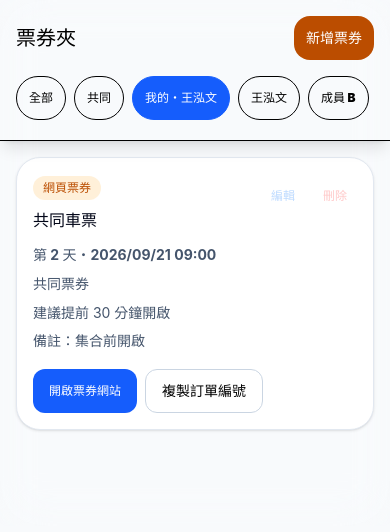
Test: TicketWalletSection › blocks duplicate copies while pending and offers selectable text on failure
Click the button "複製訂單編號" at (204, 391), box left=145, top=369, right=263, bottom=413
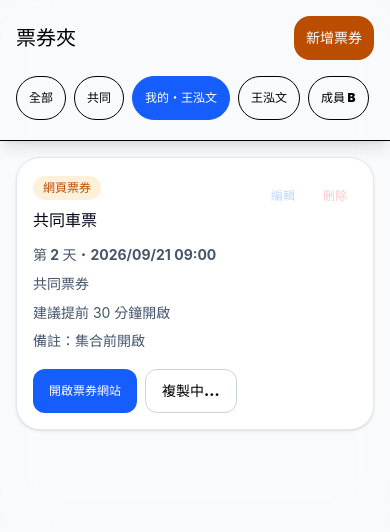
Result: the button "複製中…" is disabled
Click the button "複製中…" at (191, 391), box left=145, top=369, right=237, bottom=413
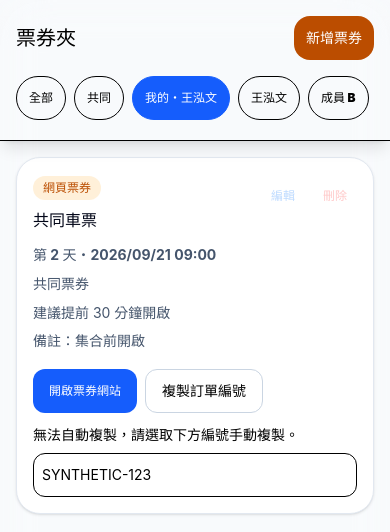
Result: the field named "手動複製訂單編號" holds "SYNTHETIC-123" at left=33, top=453, right=357, bottom=497
Result: the message shows "無法自動複製" at left=33, top=426, right=299, bottom=443
